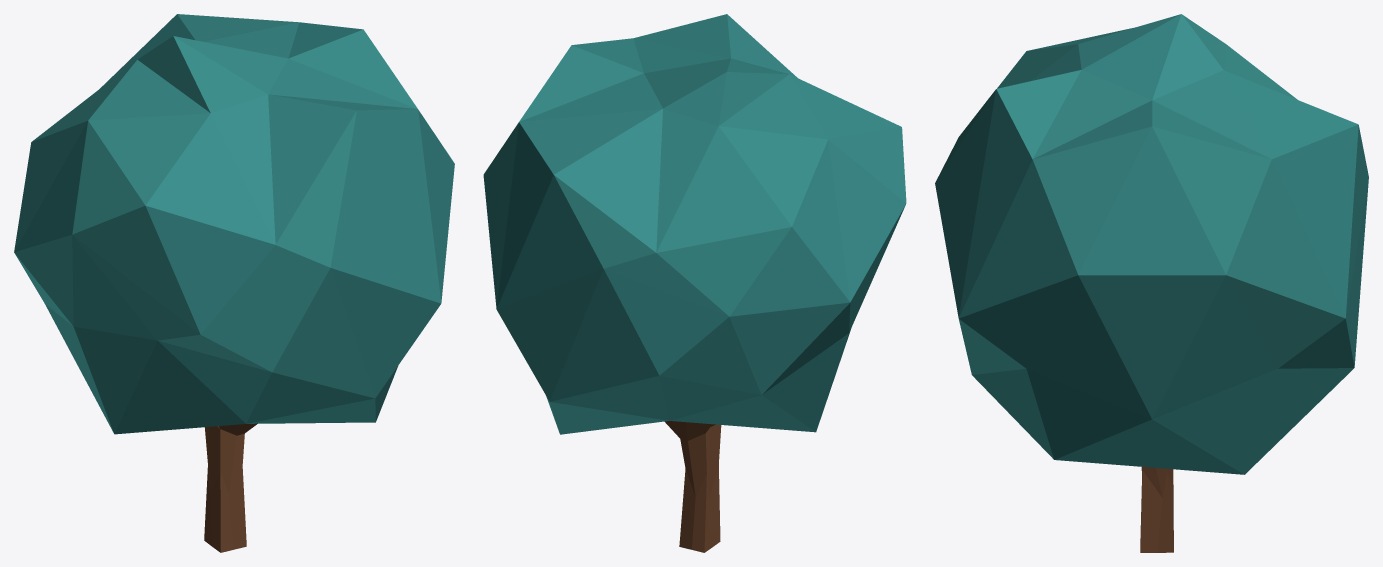
Rendered from Tree_12_Blue.fbx.
3 renders of one model, left to right at view 1: azimuth 30°, elevation 25°; view 2: azimuth 150°, elevation 25°; view 3: azimuth 270°, elevation 25°, orthographic. The views are drawn at different scales.
Visible parts, largest first — view 1: Tree_12_Blue_Part_1, Tree_12_Blue_Part_2; view 2: Tree_12_Blue_Part_1, Tree_12_Blue_Part_2; view 3: Tree_12_Blue_Part_1, Tree_12_Blue_Part_2.
Boxes of the visible parts, left/top/right/bottom form: Tree_12_Blue_Part_1: left=14, top=14, right=454, bottom=434; Tree_12_Blue_Part_2: left=204, top=423, right=257, bottom=552; Tree_12_Blue_Part_1: left=483, top=14, right=906, bottom=434; Tree_12_Blue_Part_2: left=664, top=421, right=721, bottom=552; Tree_12_Blue_Part_1: left=935, top=14, right=1368, bottom=474; Tree_12_Blue_Part_2: left=1140, top=467, right=1173, bottom=552.
Bounding box in the file's own units: 583 × 758 × 582.
